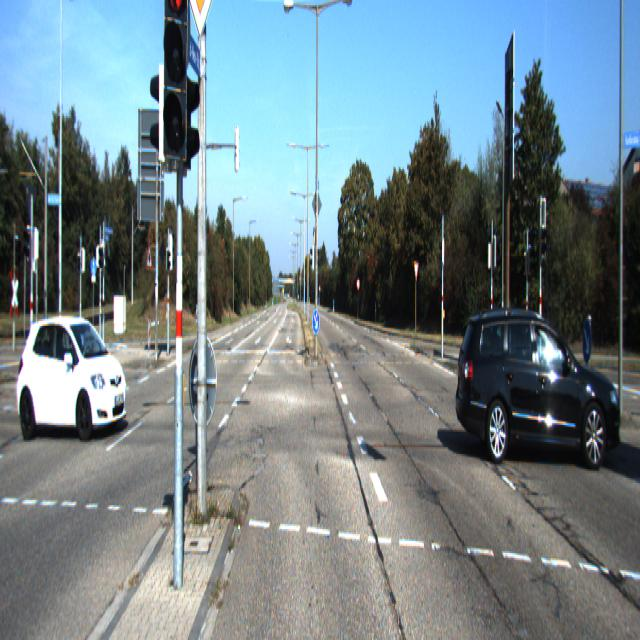Car: (455, 303, 627, 472), (16, 302, 132, 437)
